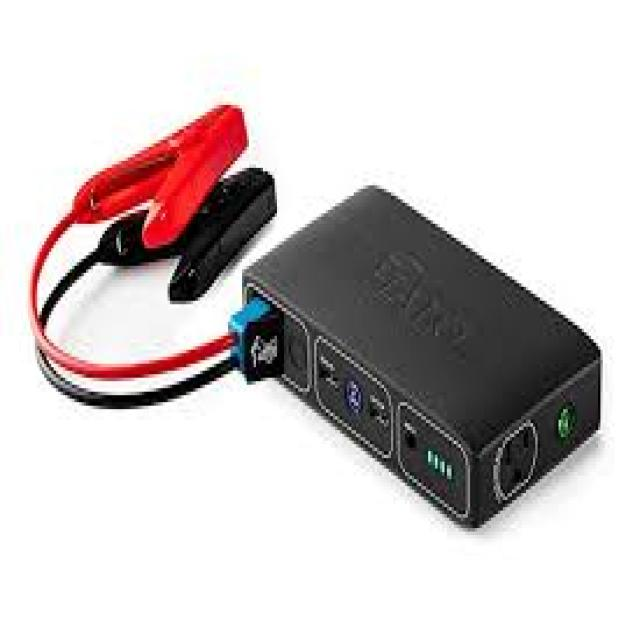portable-charger: (230, 175, 610, 552)
